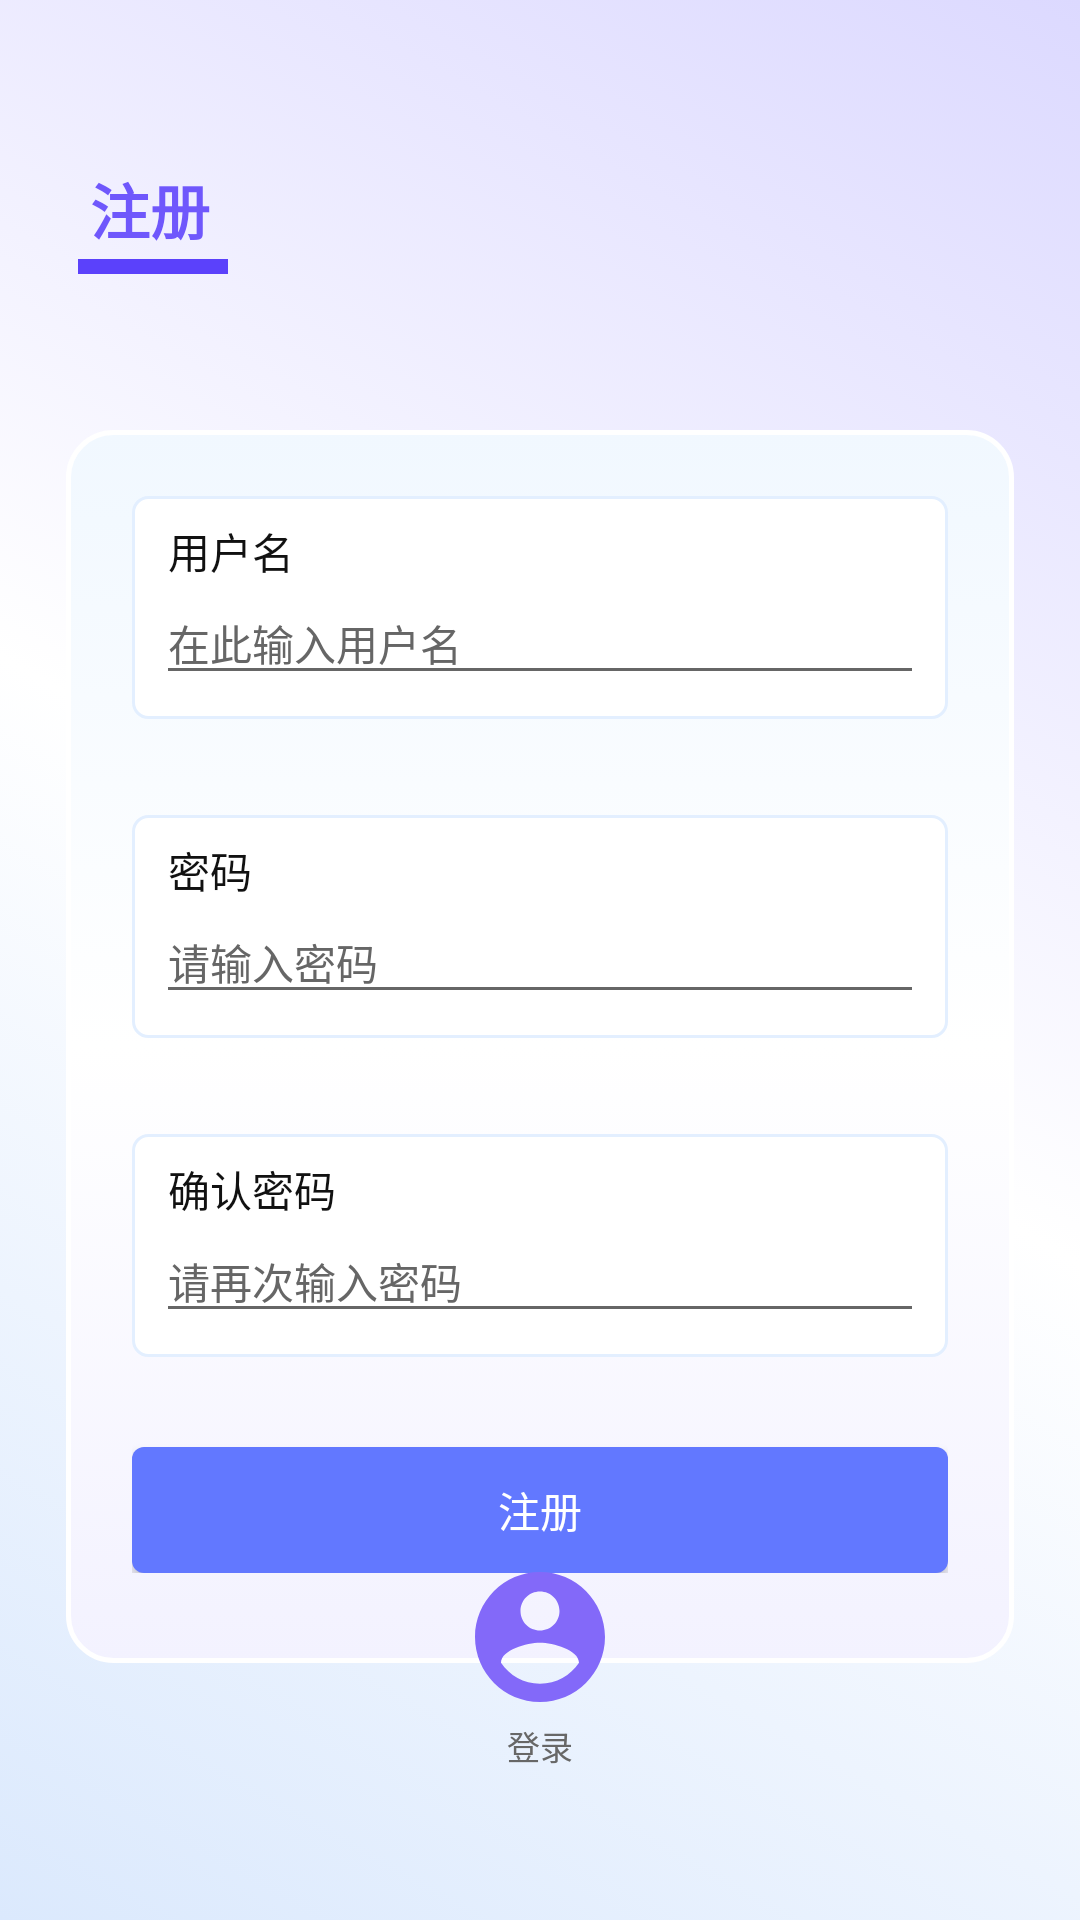

Screen size 1080 x 1920. Icon name, then its box in pixels as {"left": x1, "top": y1, "right": x2, "bottom": y2}:
account circle: {"left": 462, "top": 1559, "right": 618, "bottom": 1702}
